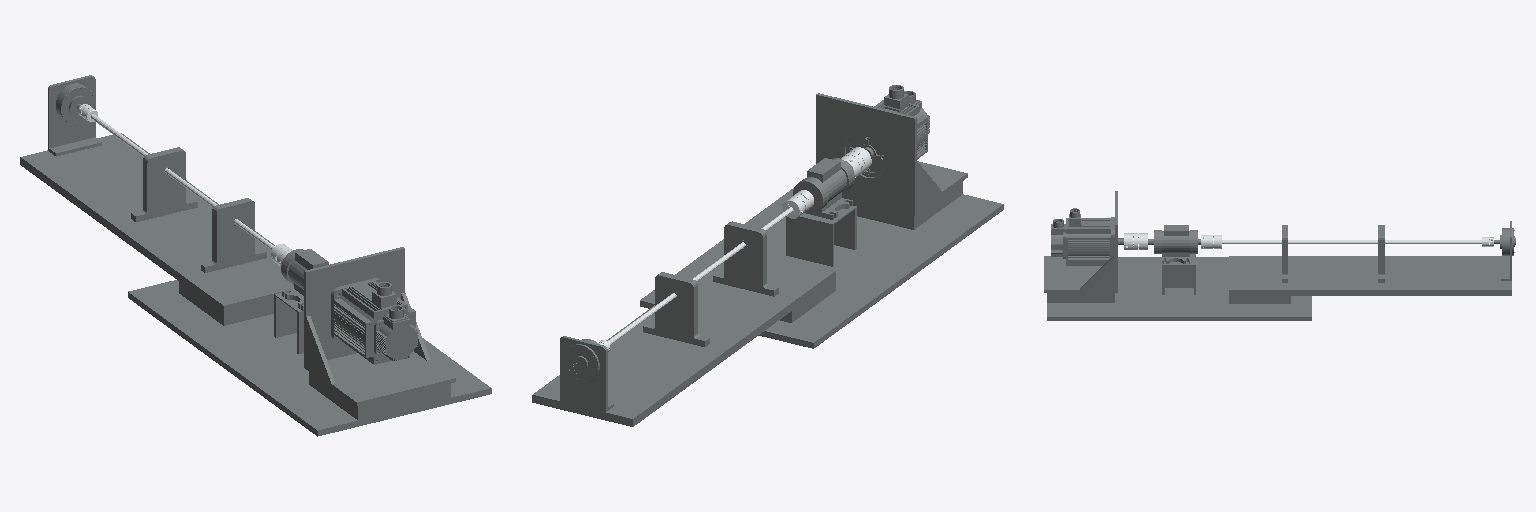
URDF robot description (shaft):
<?xml version="1.0" encoding="utf-8"?>
<!-- This URDF was automatically created by SolidWorks to URDF Exporter! Originally created by Stephen Brawner (brawner@gmail.com) 
     Commit Version: 1.6.0-1-g15f4949  Build Version: 1.6.7594.29634
     For more information, please see http://wiki.ros.org/sw_urdf_exporter -->
<robot
  name="shaft">
  <link
    name="shaft_base_link">
    <inertial>
      <origin
        xyz="-2.12E-08 0.048212 0.043784"
        rpy="0 0 0" />
      <mass
        value="107.39" />
      <inertia
        ixx="6.9348"
        ixy="-2.3541E-08"
        ixz="9.1524E-08"
        iyy="1.221"
        iyz="0.21307"
        izz="7.81" />
    </inertial>
    <visual>
      <origin
        xyz="0 0 0"
        rpy="0 0 0" />
      <geometry>
        <mesh
          filename="package://shaft/meshes/shaft_base_link.STL" />
      </geometry>
      <material
        name="">
        <color
          rgba="0.52941 0.54902 0.54902 1" />
      </material>
    </visual>
    <collision>
      <origin
        xyz="0 0 0"
        rpy="0 0 0" />
      <geometry>
        <mesh
          filename="package://shaft/meshes/shaft_base_link.STL" />
      </geometry>
    </collision>
  </link>
  <link
    name="shaft_Link1">
    <inertial>
      <origin
        xyz="-8.0694E-06 0.3085 0.17498"
        rpy="0 0 0" />
      <mass
        value="1.4808" />
      <inertia
        ixx="0.04816"
        ixy="6.813E-08"
        ixz="-1.044E-07"
        iyy="0.00026623"
        iyz="-2.7226E-08"
        izz="0.048159" />
    </inertial>
    <visual>
      <origin
        xyz="0 0 0"
        rpy="0 0 0" />
      <geometry>
        <mesh
          filename="package://shaft/meshes/shaft_Link1.STL" />
      </geometry>
      <material
        name="">
        <color
          rgba="0.89804 0.91765 0.92941 1" />
      </material>
    </visual>
    <collision>
      <origin
        xyz="0 0 0"
        rpy="0 0 0" />
      <geometry>
        <mesh
          filename="package://shaft/meshes/shaft_Link1.STL" />
      </geometry>
    </collision>
  </link>
  <joint
    name="shaft_Joint1"
    type="revolute">
    <origin
      xyz="0 0 0"
      rpy="0 0 0" />
    <parent
      link="shaft_base_link" />
    <child
      link="shaft_Link1" />
    <axis
      xyz="0 1 0" />
    <limit
      lower="0"
      upper="0"
      effort="0"
      velocity="0" />
  </joint>
</robot>

--- What the picture shows (computed from the rendered views, not written in the file) ---
3 views of the same robot in one strip: view 1: azimuth 30°, elevation 25°; view 2: azimuth 150°, elevation 25°; view 3: azimuth 270°, elevation 25° (orthographic).
Robot: shaft — 2 links, 1 joints (1 revolute); root link shaft_base_link; default pose: every joint at zero.
Links seen in each view (by area): view 1: shaft_base_link, shaft_Link1; view 2: shaft_base_link, shaft_Link1; view 3: shaft_base_link, shaft_Link1.
Boxes of the visible links, x1,y1,x2,y2 form: shaft_base_link: [20, 75, 491, 436]; shaft_Link1: [78, 104, 292, 265]; shaft_base_link: [532, 85, 1003, 426]; shaft_Link1: [598, 147, 871, 351]; shaft_base_link: [1044, 191, 1515, 320]; shaft_Link1: [1124, 233, 1493, 249].
Size in the robot's own frame: 0.45 by 1.51 by 0.295 metres.
2 mesh visuals loaded from 2 distinct referenced files (2 binary STL).
